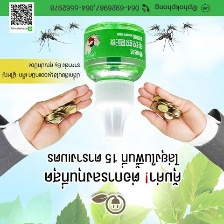insecticide: (81, 19, 150, 142)
